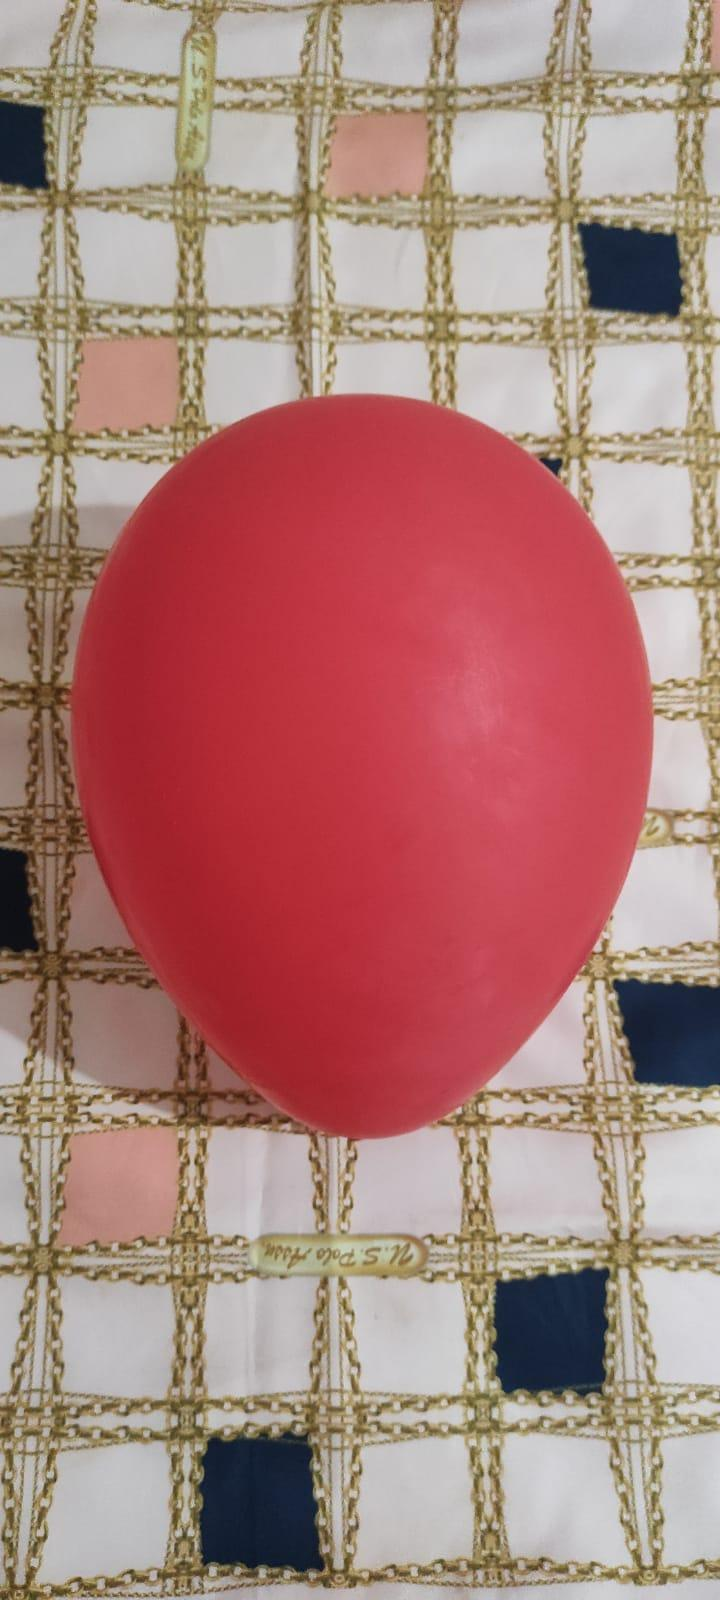red: (67, 384, 658, 1143)
